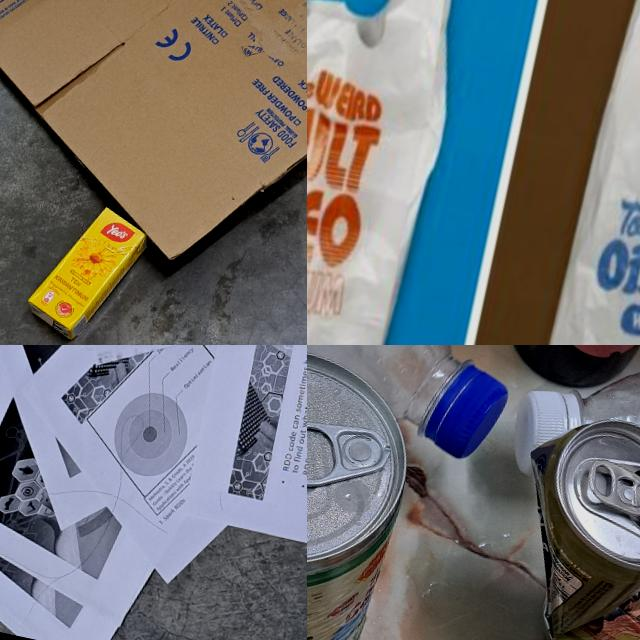aba de lata: (307, 413, 392, 502), (582, 454, 640, 517)
caixinha: (24, 192, 151, 345)
garrafa de vidro: (493, 345, 640, 402)
garrafa plástica: (558, 345, 640, 536)
lata: (483, 402, 640, 640), (307, 345, 429, 640)
papel: (0, 345, 307, 640)
papelão: (0, 0, 307, 310)
sacola plástica: (307, 0, 494, 345), (507, 0, 640, 345)
tampa plástica: (424, 355, 514, 467), (505, 384, 576, 482)
